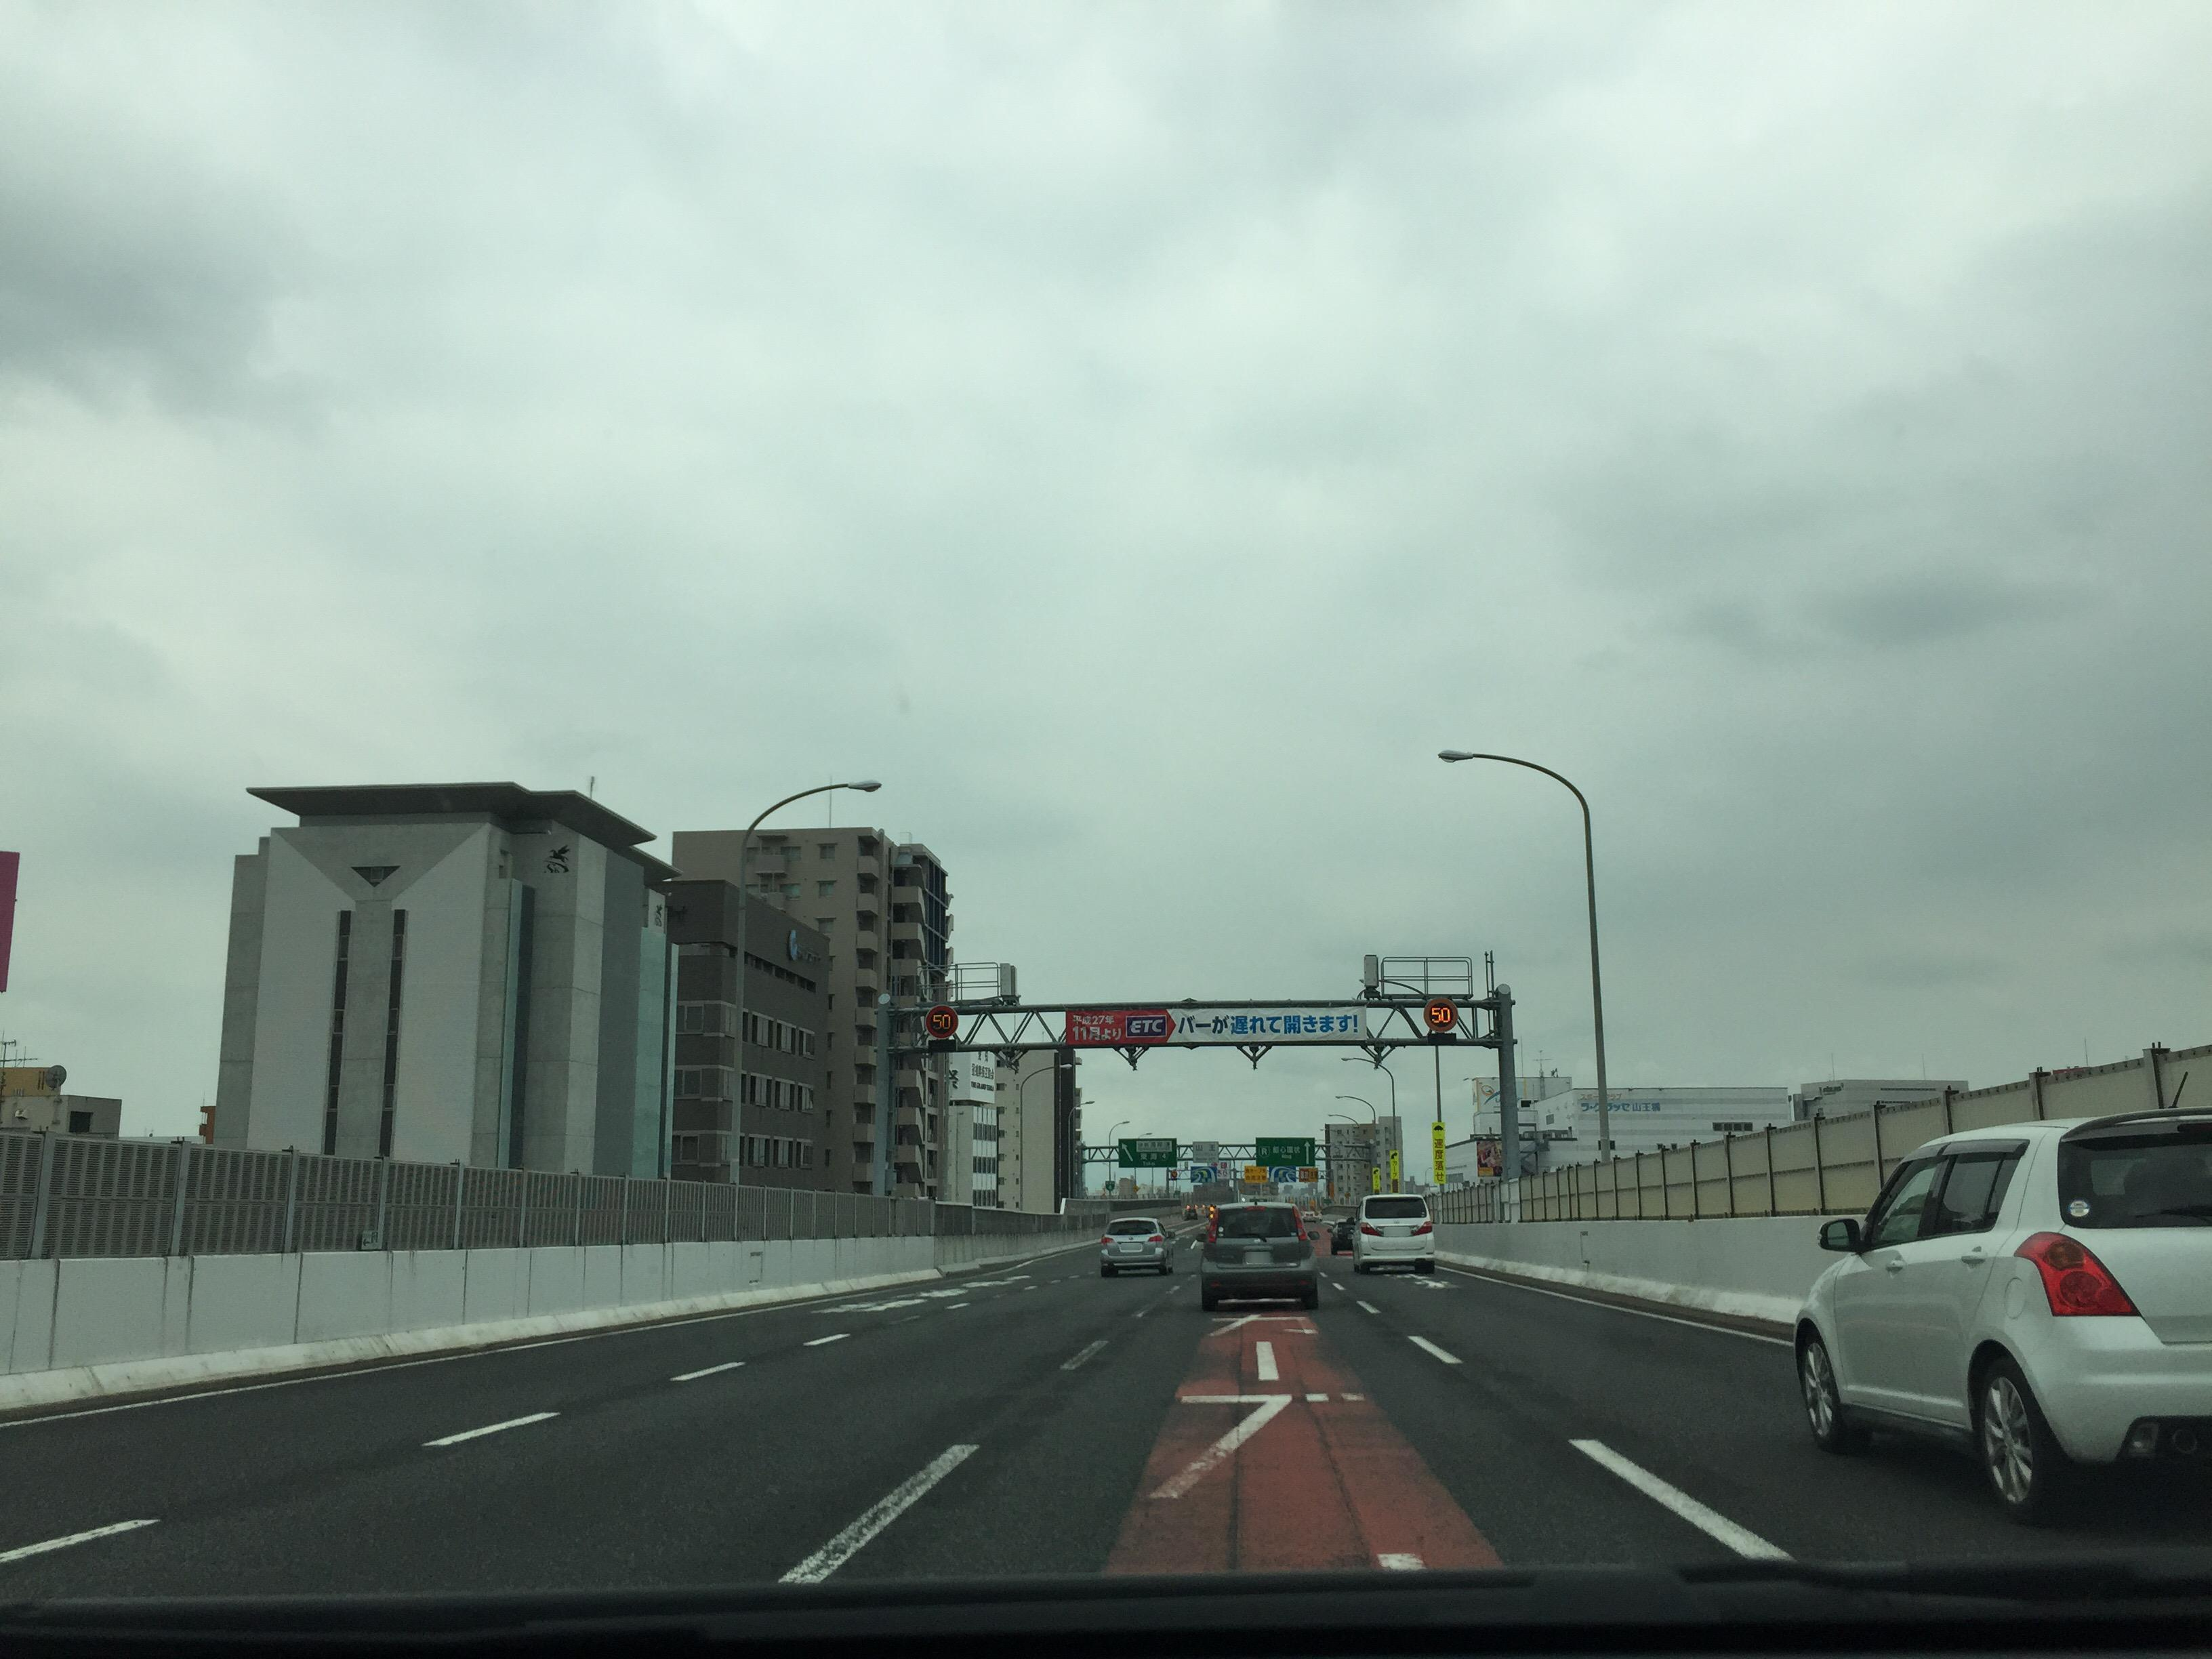vinyl banner: (1059, 990, 1381, 1058)
